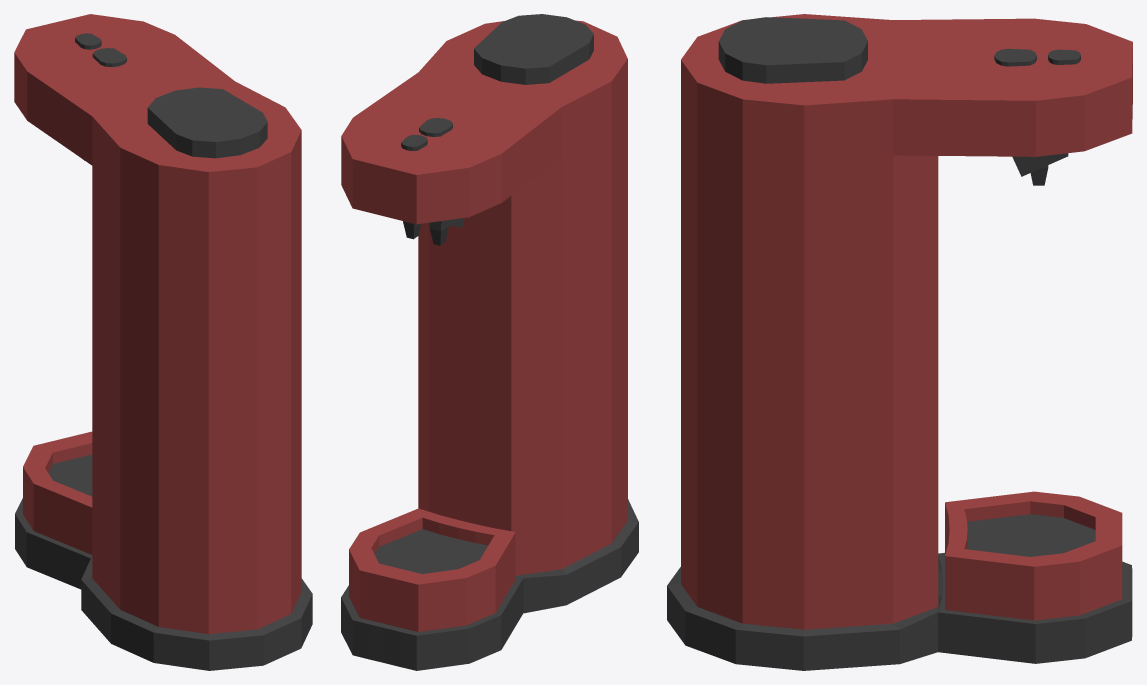
Rendered from MachineExpresso.fbx.
The picture shows the model from 3 angles, left to right: view 1: azimuth 30°, elevation 25°; view 2: azimuth 150°, elevation 25°; view 3: azimuth 270°, elevation 25°; orthographic projection. The views are drawn at different scales.
Parts seen in each view (by area): view 1: MachineACafé; view 2: MachineACafé; view 3: MachineACafé.
Part boxes in pixels (box(x1,y1,x2,y2)): MachineACafé: box(14, 14, 312, 670); MachineACafé: box(341, 14, 638, 670); MachineACafé: box(667, 14, 1132, 670).
Bounding box in the file's own units: 15 × 40 × 29.04.
